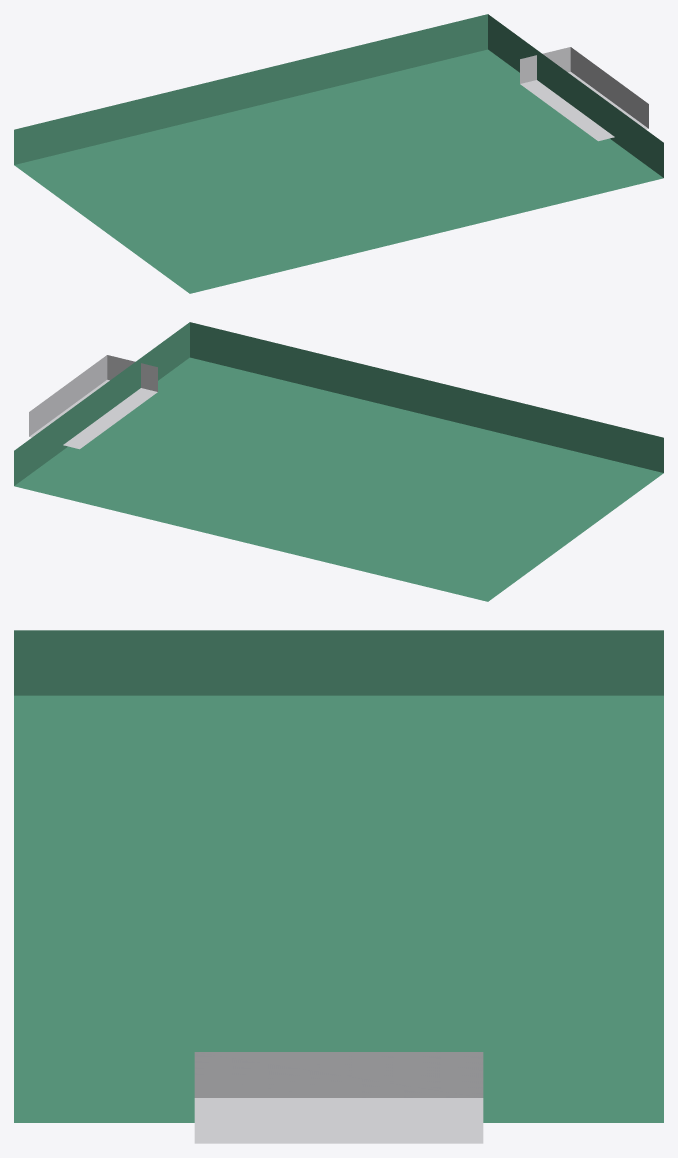
The model's file is mcu.glb.
The picture shows the model from 3 angles, top to bottom: view 1: azimuth 30°, elevation 25°; view 2: azimuth 150°, elevation 25°; view 3: azimuth 270°, elevation 25°; orthographic projection. The views are drawn at different scales.
Bounding box in the file's own units: 30 × 2 × 18.
